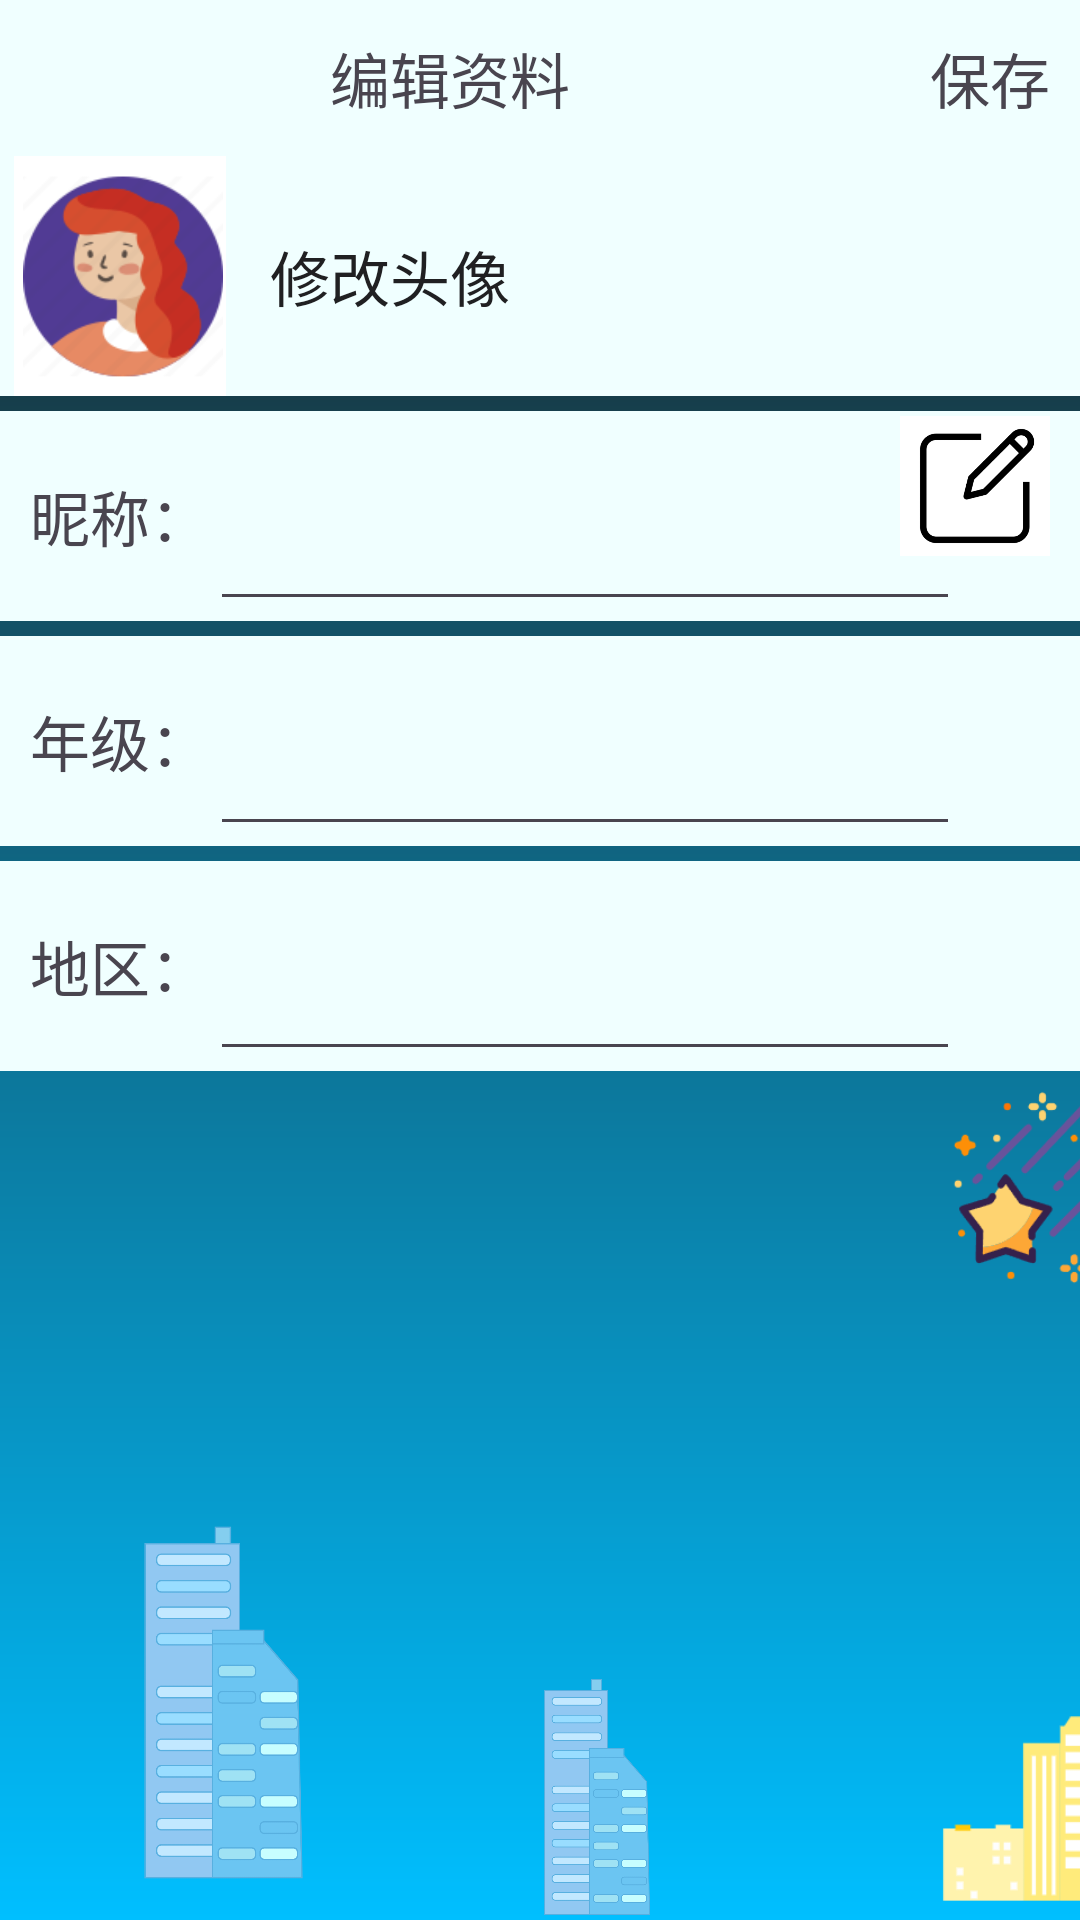

Icons on this 1080*1920 Android screen, each with the point to tap as [x,y]:
edit: [975,486]
